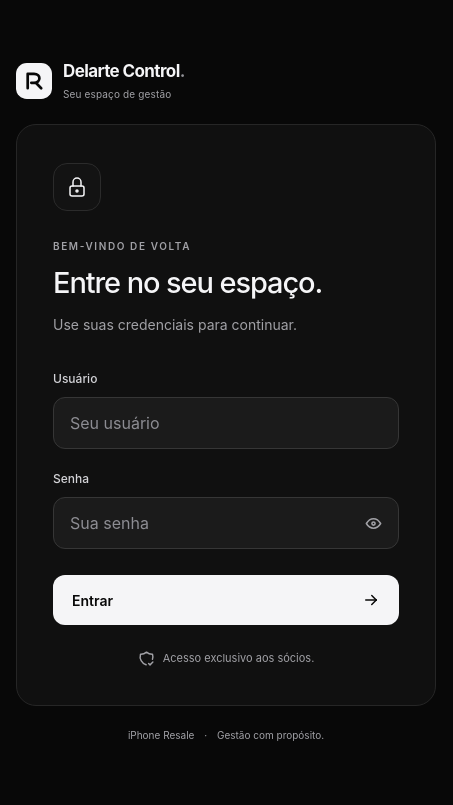
authentication and routing › shows a contextual 401 error
The width and height of the screenshot is (453, 805).
Type "socio.teste" into the field labelled "Usuário" at (226, 423), box [53,397,399,449]
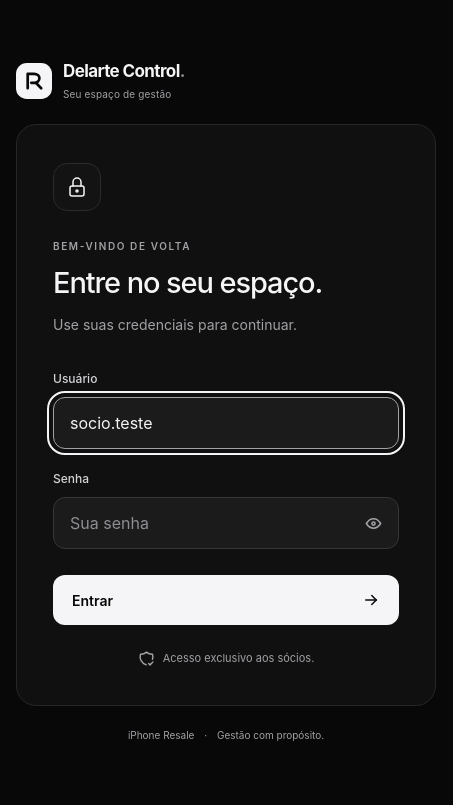
Type "valid-test-password" into the password field labelled "Senha" at (226, 523), box [53,497,399,549]
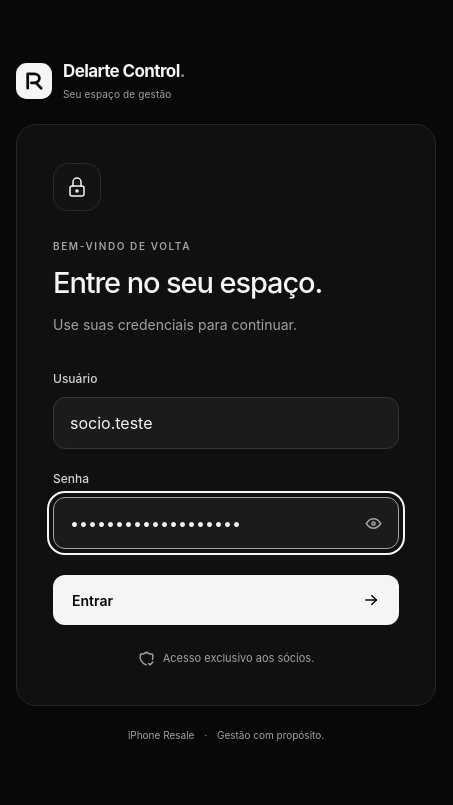
Click the button "Entrar" at (93, 600), box [53,575,399,625]
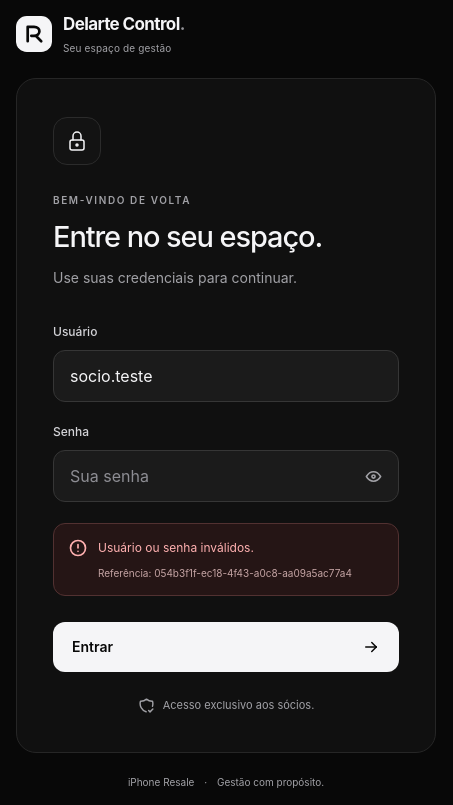
Check: the text "Usuário ou senha inválidos." is shown, box [98,540,254,556]
